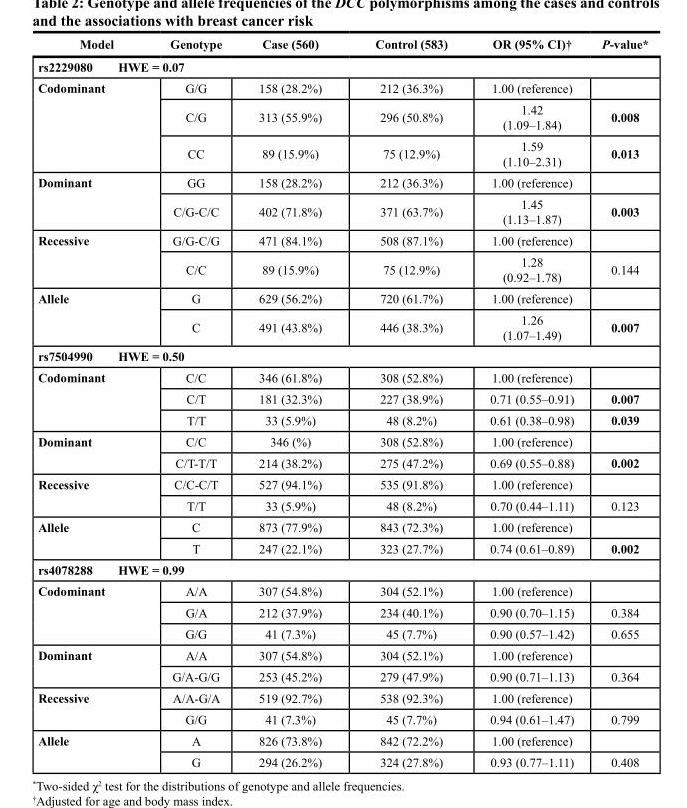table: (37, 36, 647, 768)
table column: (347, 36, 468, 768), (468, 36, 587, 768), (239, 36, 347, 768), (37, 36, 141, 768), (141, 36, 239, 768), (587, 36, 647, 768)
table column header: (37, 36, 647, 54)
table projected row header: (37, 54, 647, 77), (37, 345, 647, 366), (37, 558, 647, 579)
table row: (37, 98, 647, 135), (37, 192, 647, 229), (37, 250, 647, 287), (37, 308, 647, 345), (37, 135, 647, 171), (37, 54, 647, 77), (37, 387, 647, 409), (37, 451, 647, 473), (37, 494, 647, 516), (37, 579, 647, 601), (37, 622, 647, 644), (37, 686, 647, 708), (37, 729, 647, 751), (37, 77, 647, 98), (37, 171, 647, 192), (37, 229, 647, 250), (37, 287, 647, 308), (37, 345, 647, 366), (37, 366, 647, 387), (37, 409, 647, 430), (37, 430, 647, 451), (37, 473, 647, 494), (37, 516, 647, 537), (37, 537, 647, 558), (37, 558, 647, 579), (37, 601, 647, 622), (37, 644, 647, 665), (37, 665, 647, 686), (37, 708, 647, 729), (37, 36, 647, 54), (37, 751, 647, 768)
table spanning cell: (37, 77, 141, 171), (37, 579, 141, 644), (37, 366, 141, 430), (37, 171, 141, 229), (37, 229, 141, 287), (37, 287, 141, 345), (37, 430, 141, 473), (37, 473, 141, 516), (37, 686, 141, 729), (37, 516, 141, 558), (37, 644, 141, 686), (37, 729, 141, 768)
